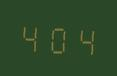four: (18, 17, 43, 55), (71, 20, 96, 57)
zero: (45, 19, 70, 56)
